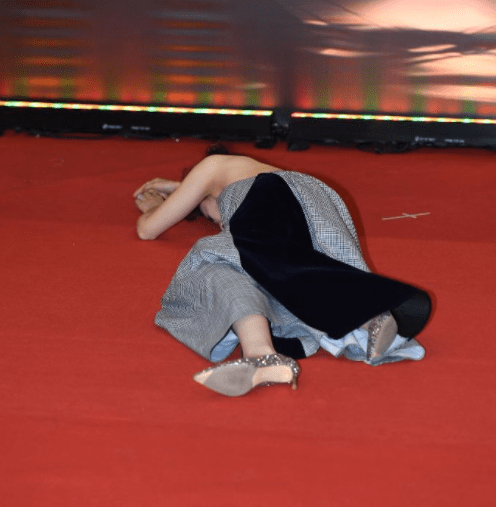down: (130, 133, 429, 398)
